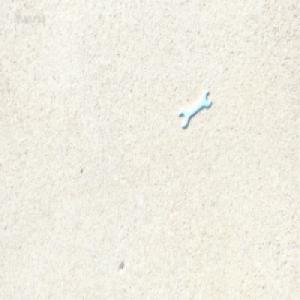Wrench: (178, 92, 209, 128)
